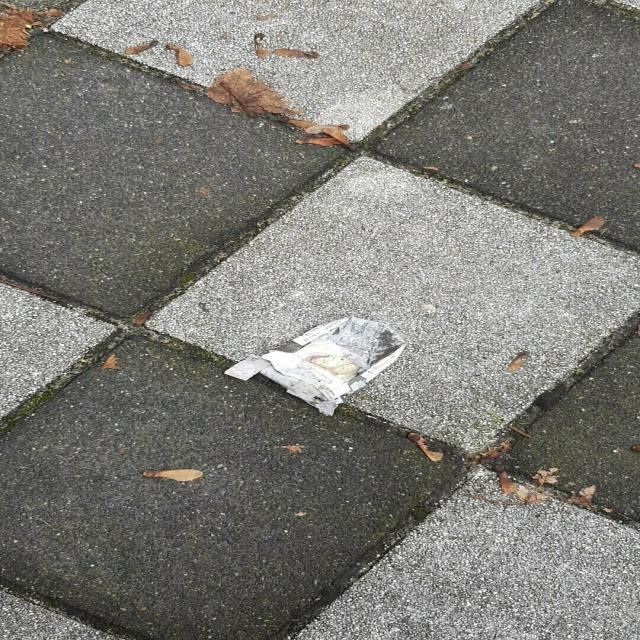Paper: (222, 316, 408, 416)
